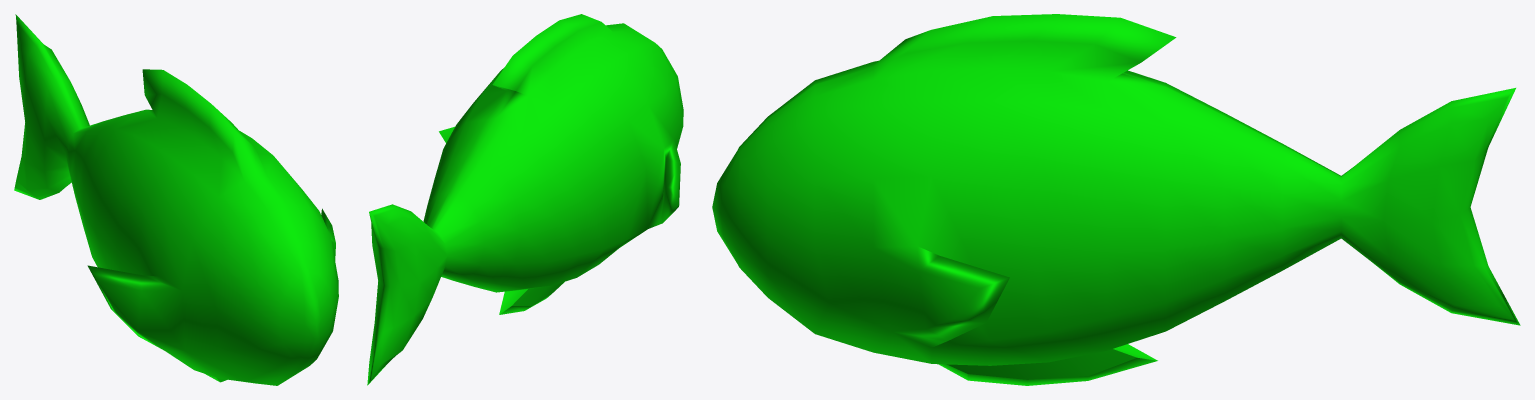
Rendered from fish1.fbx.
3 views of the same model, side by side, from view 1: azimuth 30°, elevation 25°; view 2: azimuth 150°, elevation 25°; view 3: azimuth 270°, elevation 25° (orthographic). The views are drawn at different scales.
Visible parts, largest first — view 1: pCylinder1; view 2: pCylinder1; view 3: pCylinder1.
Part boxes in pixels (x1,y1,x2,y2): pCylinder1: [14, 14, 338, 385]; pCylinder1: [367, 14, 683, 385]; pCylinder1: [712, 14, 1520, 385].
Bounding box in the file's own units: 2.21 × 2.5 × 4.91.
